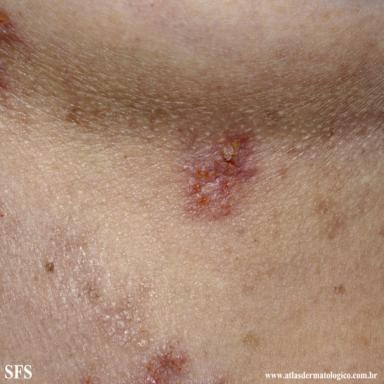Hailey-Hailey-Disease: (179, 122, 263, 223), (143, 344, 189, 384)
